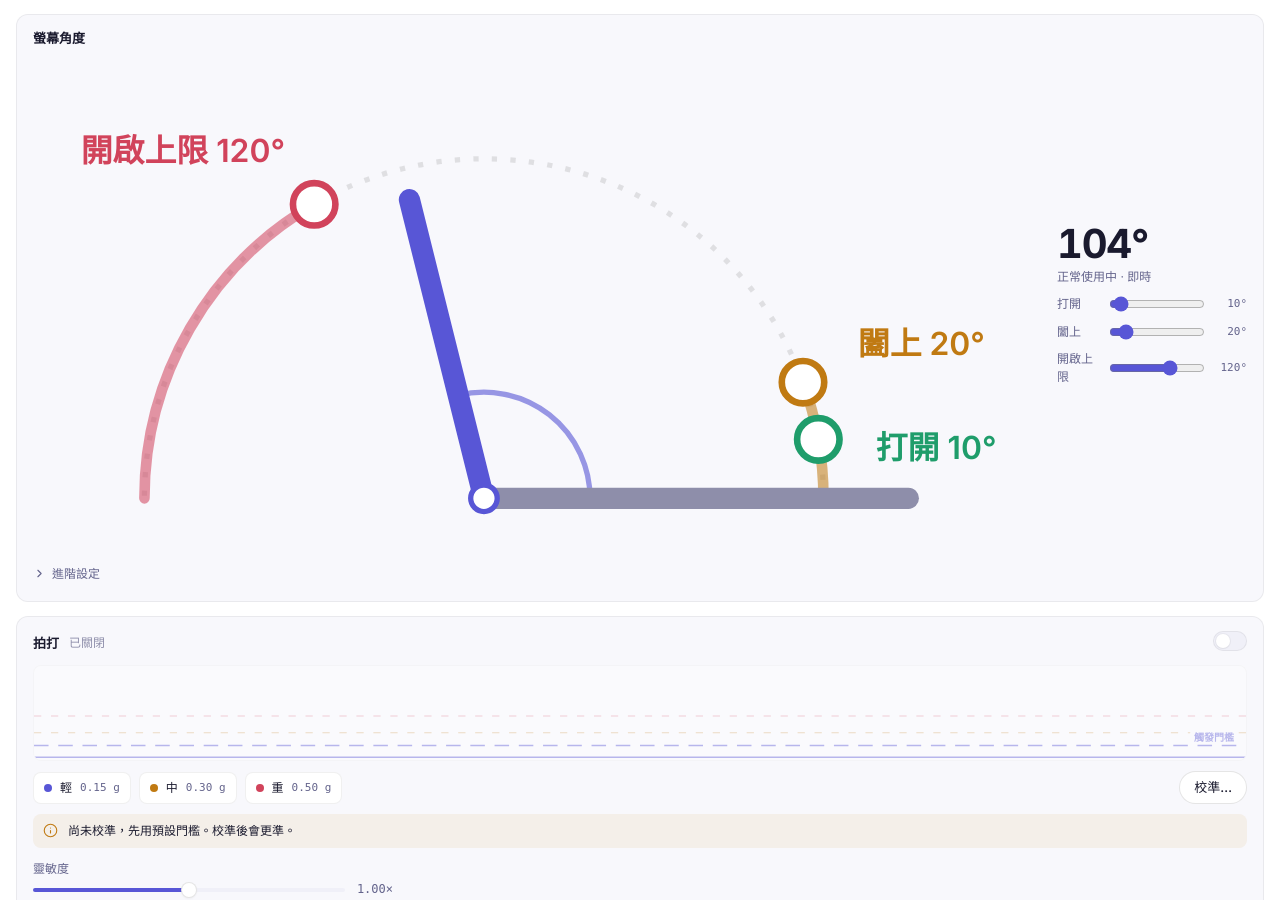
Test: SensorsPage › shows the live angle and edits thresholds
Expected: the text "104°" is shown, [1057,219,1148,268]
Expected: the text "正常使用中 · 即時" is shown, [1057,269,1151,284]
Note: Arrow keys on the gauge handle: +5 with Shift.
Press ArrowUp in the slider labelled "闔上門檻（度）", box [782,361,824,403]
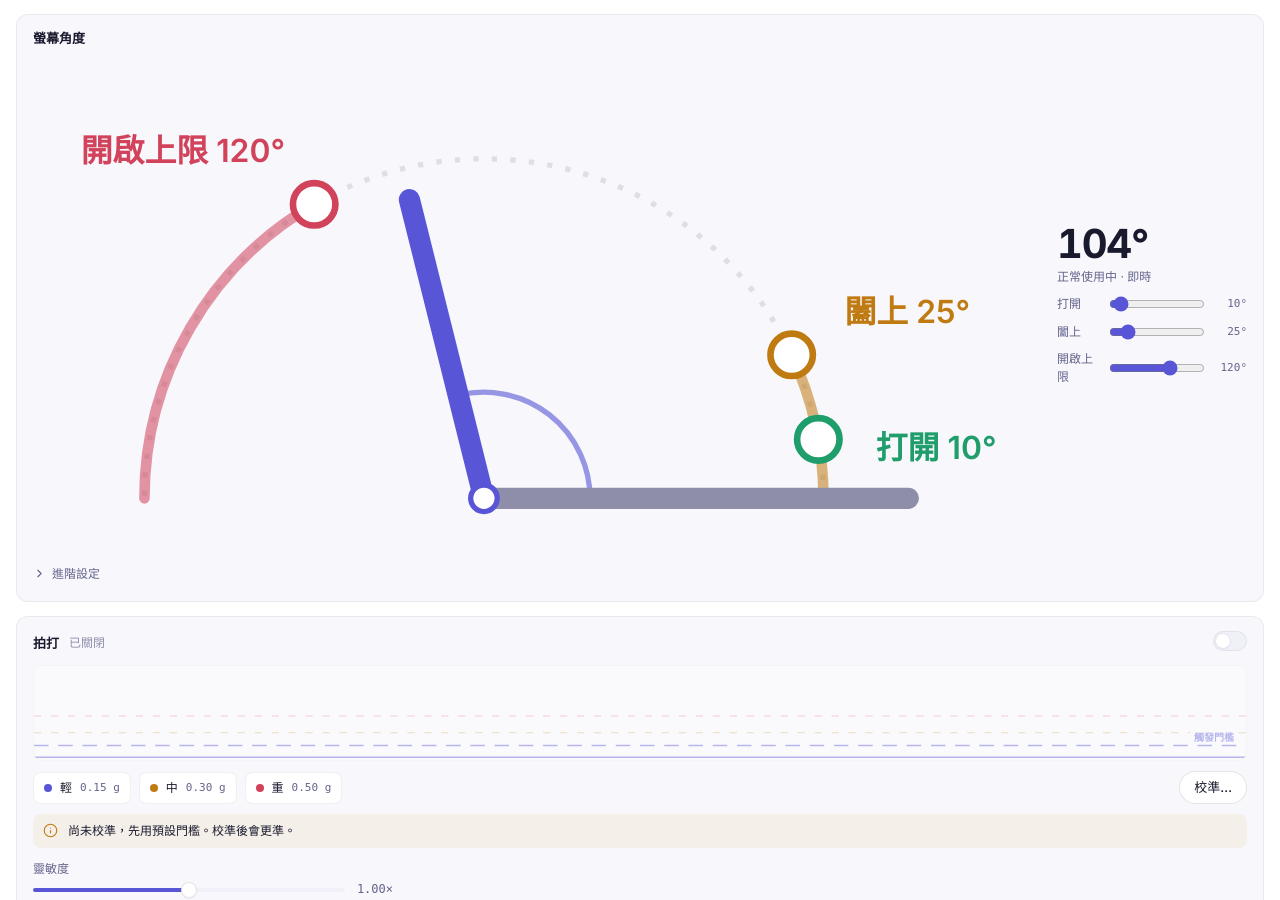
Note: The range input next to it.
Set the slider named "闔上門檻（度）" to "30" at (1130,332), box [1109,324,1205,340]
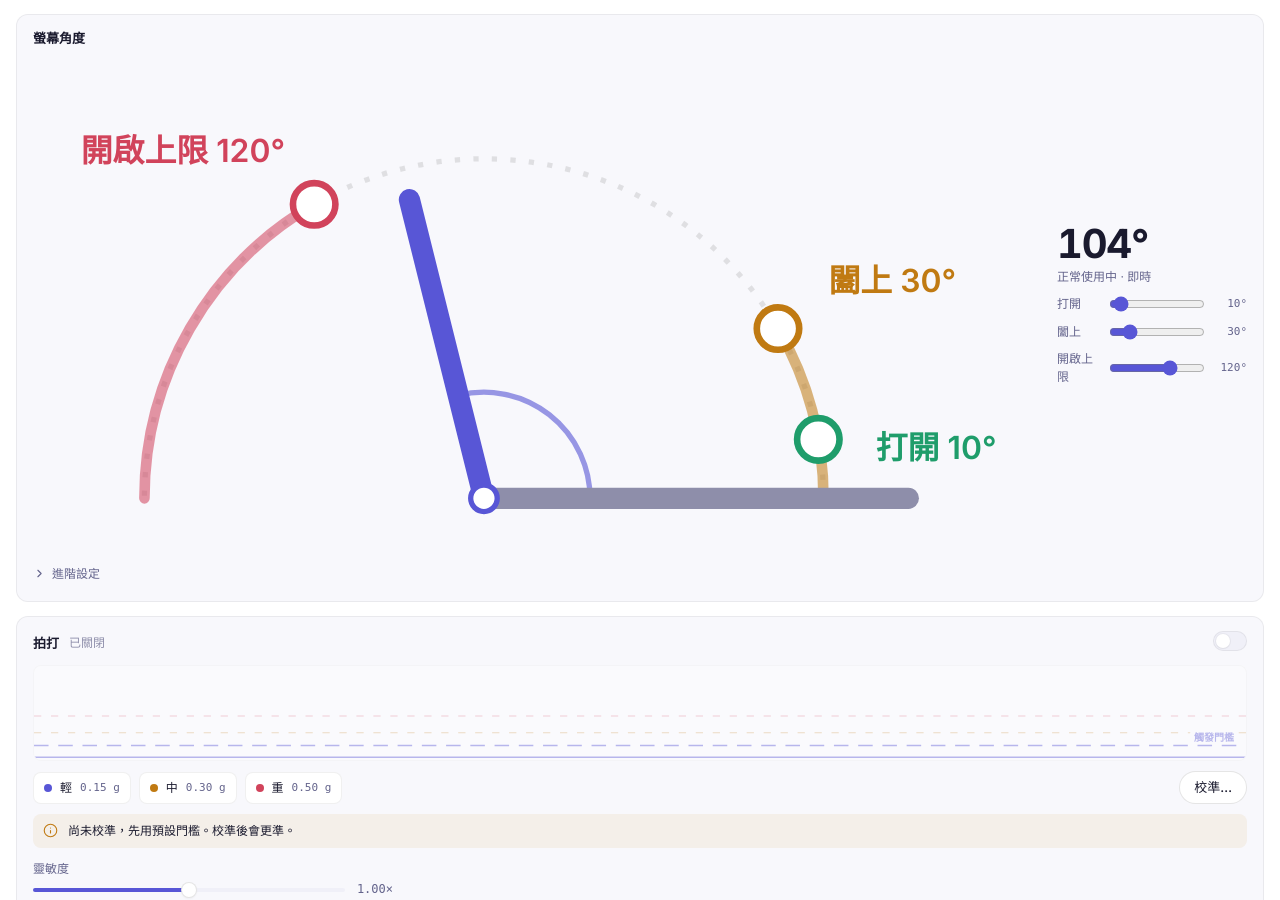
Note: Invalid combinations are shown and not saved.
Set the slider named "開啟上限門檻（度）" to "20" at (1126,368), box [1109,360,1205,376]
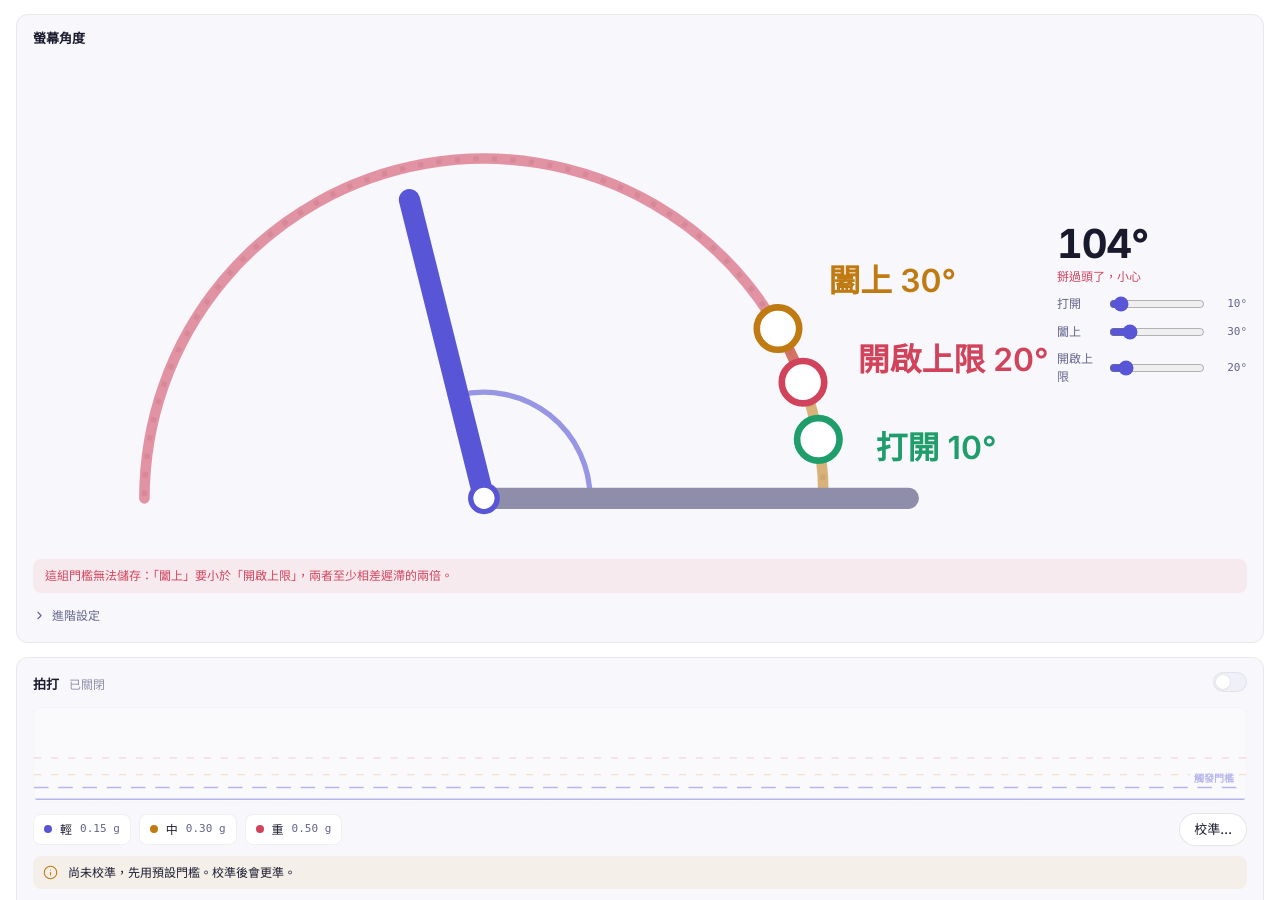
Result: the message "這組門檻無法儲存：「闔上」要小於「開啟上限」，兩者至少相差遲滯的兩倍。" is shown at [33,559,1247,593]
